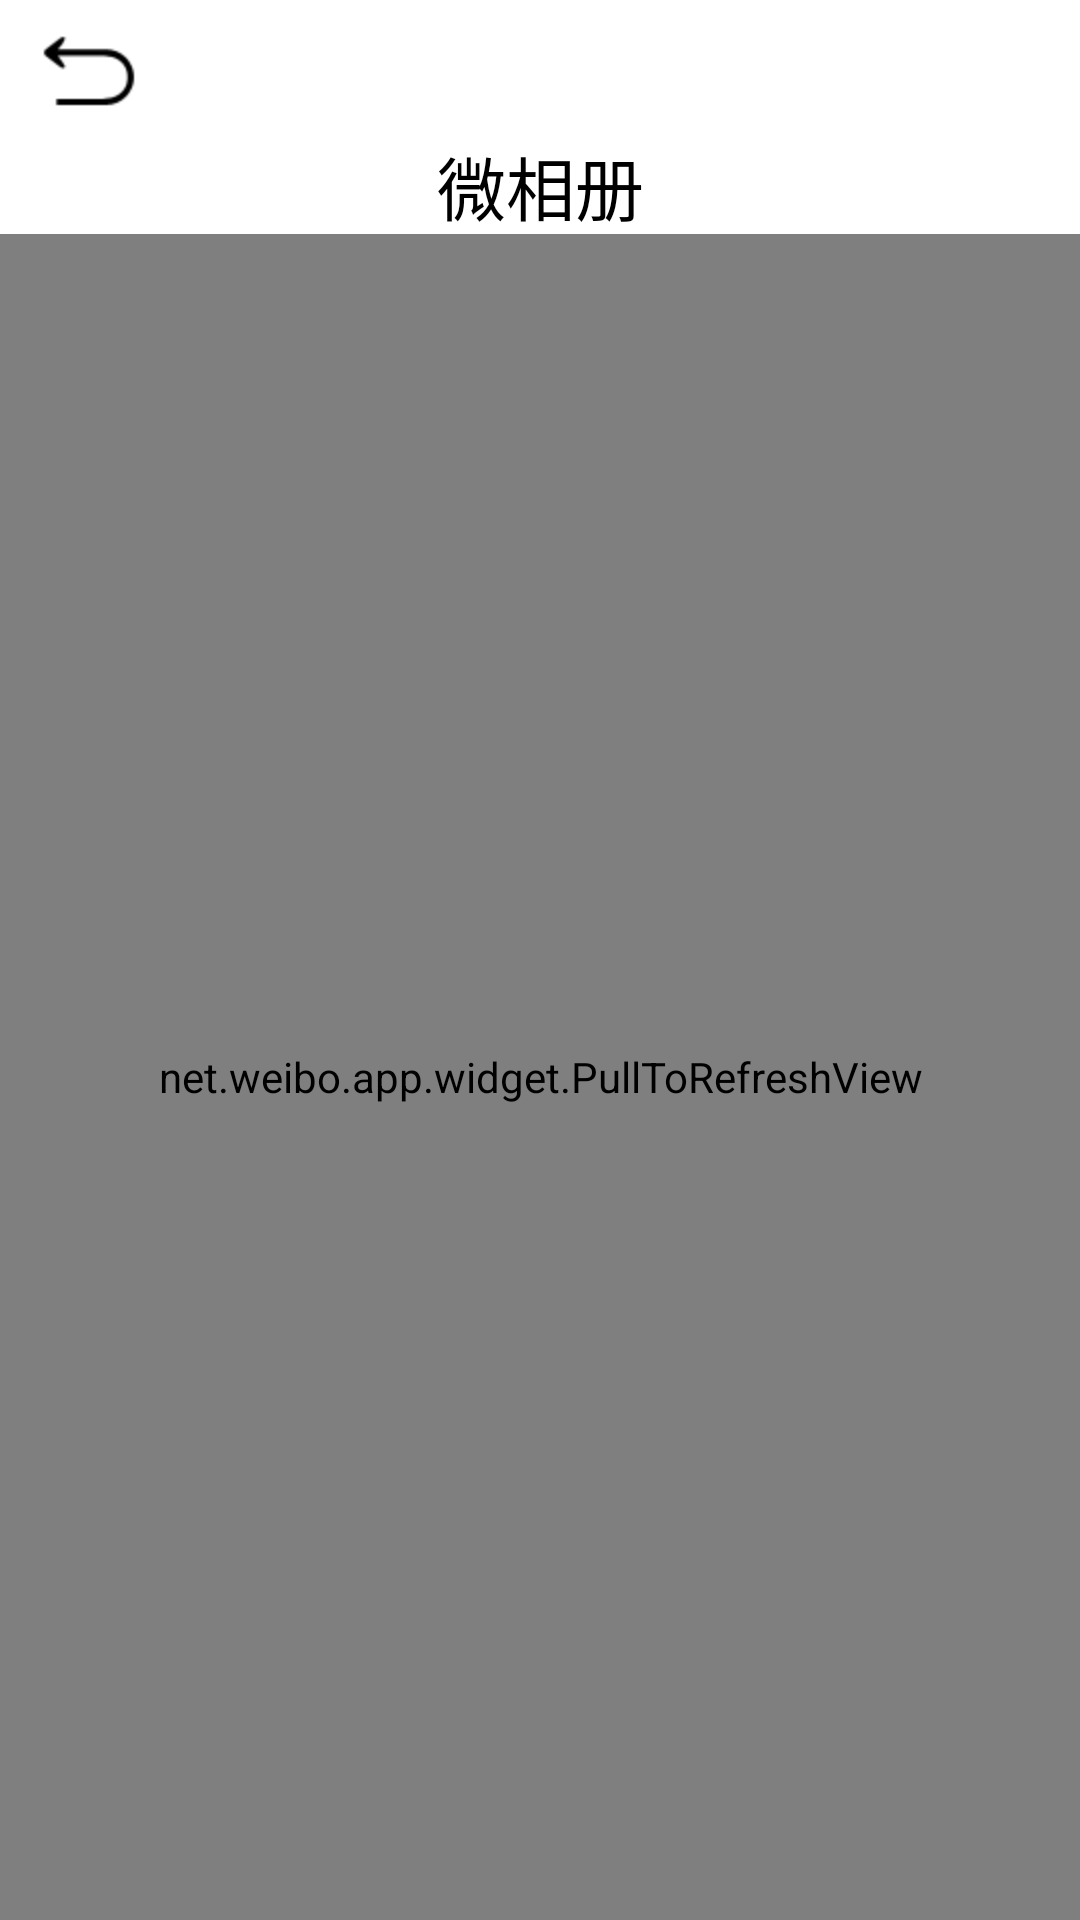

Point at icon controls on the screen. Image size 1080×1920, points as (x=x, y=y).
album back nor: (x=89, y=71)
